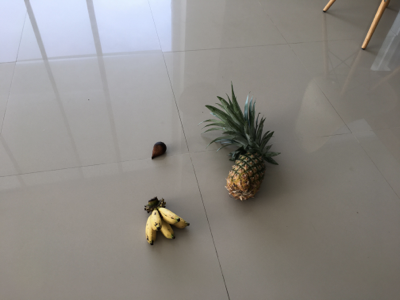banana: (144, 198, 191, 247)
pineapple: (201, 82, 280, 202)
snake fruit: (151, 142, 166, 161)
